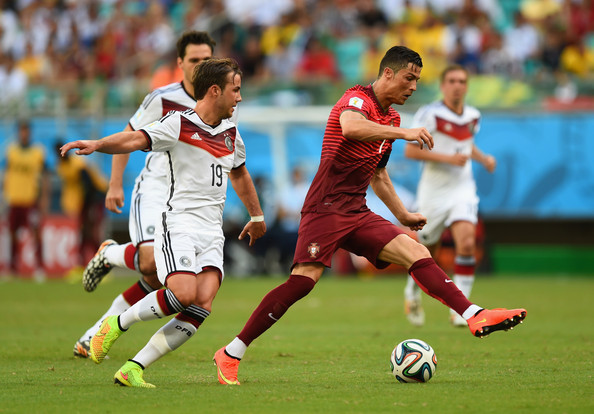football: (388, 340, 438, 383)
